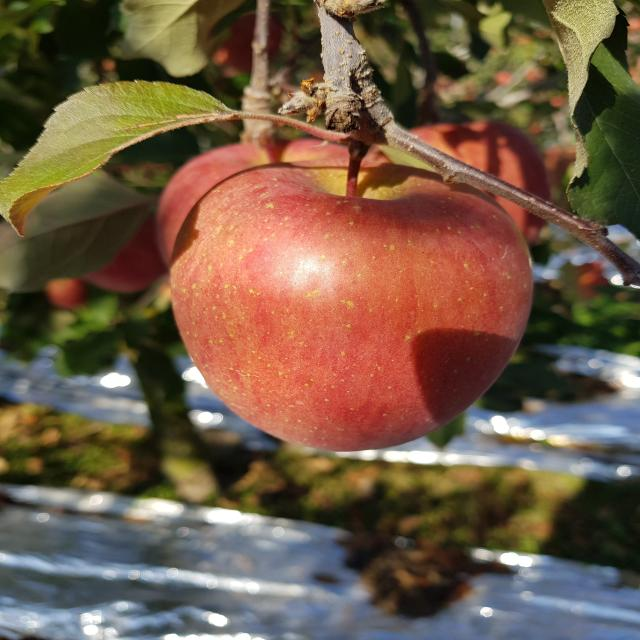fresh: (156, 154, 544, 458)
